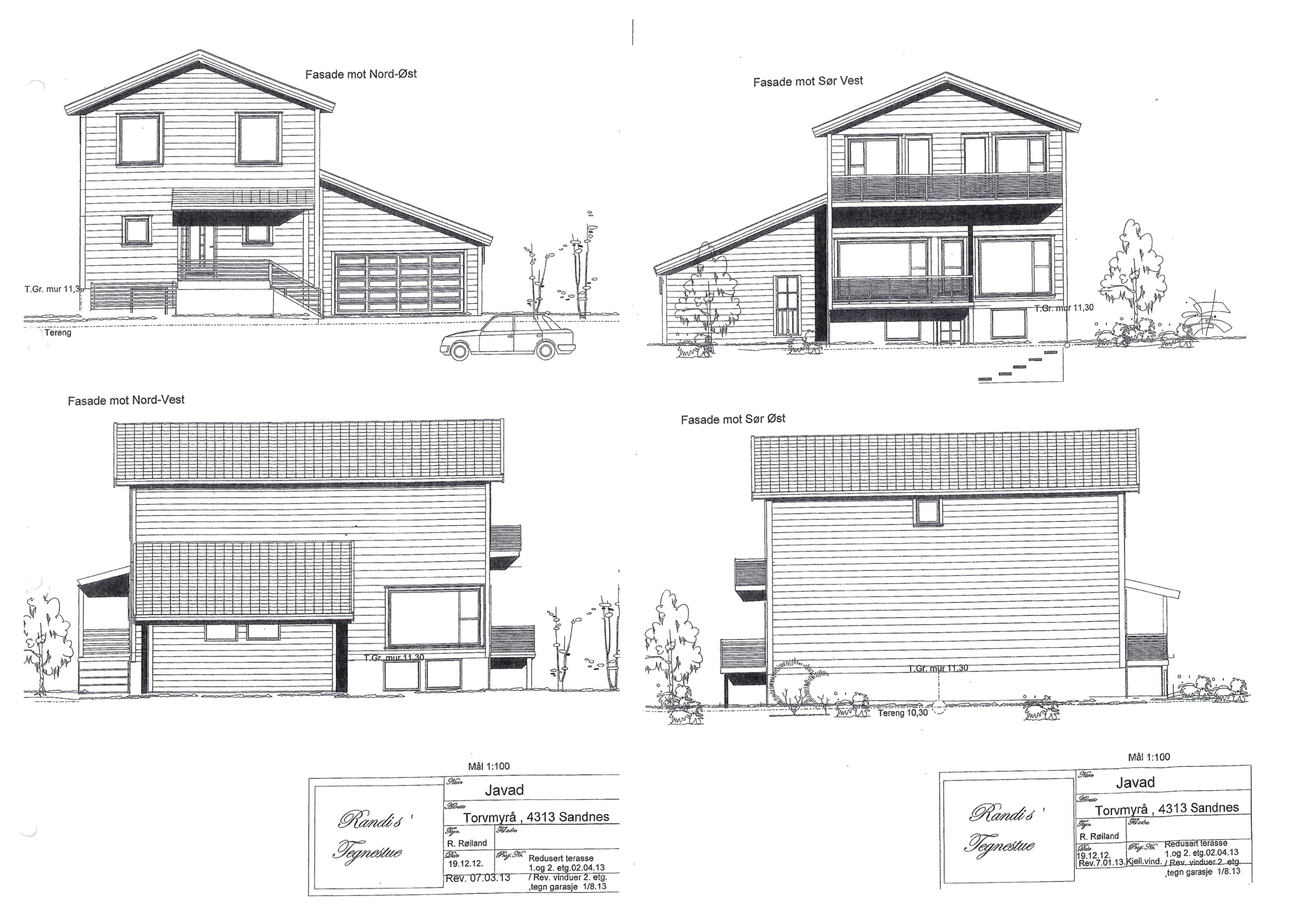fasade: (650, 69, 1084, 388), (718, 426, 1183, 717), (74, 417, 538, 704), (61, 47, 495, 330)
